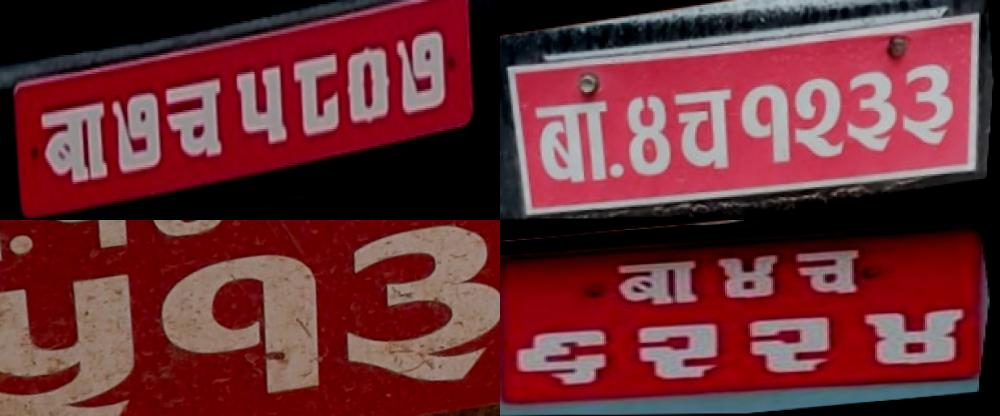0: (338, 31, 399, 138)
1: (147, 238, 347, 416), (730, 75, 802, 175), (30, 220, 143, 271)
2: (619, 315, 743, 390), (733, 309, 859, 380), (786, 67, 856, 165)
3: (323, 220, 500, 408), (889, 54, 969, 157), (838, 61, 907, 160)
4: (853, 300, 986, 373), (615, 85, 684, 181), (706, 247, 799, 307)
5: (0, 256, 167, 416), (232, 54, 302, 162)
6: (506, 323, 632, 396)
7: (106, 76, 173, 189), (390, 19, 458, 126)
8: (291, 41, 349, 150), (128, 220, 244, 251)
ba: (524, 90, 622, 195), (35, 91, 116, 204), (607, 255, 714, 313)
cha: (664, 76, 748, 182), (160, 64, 234, 176), (787, 240, 882, 303)
